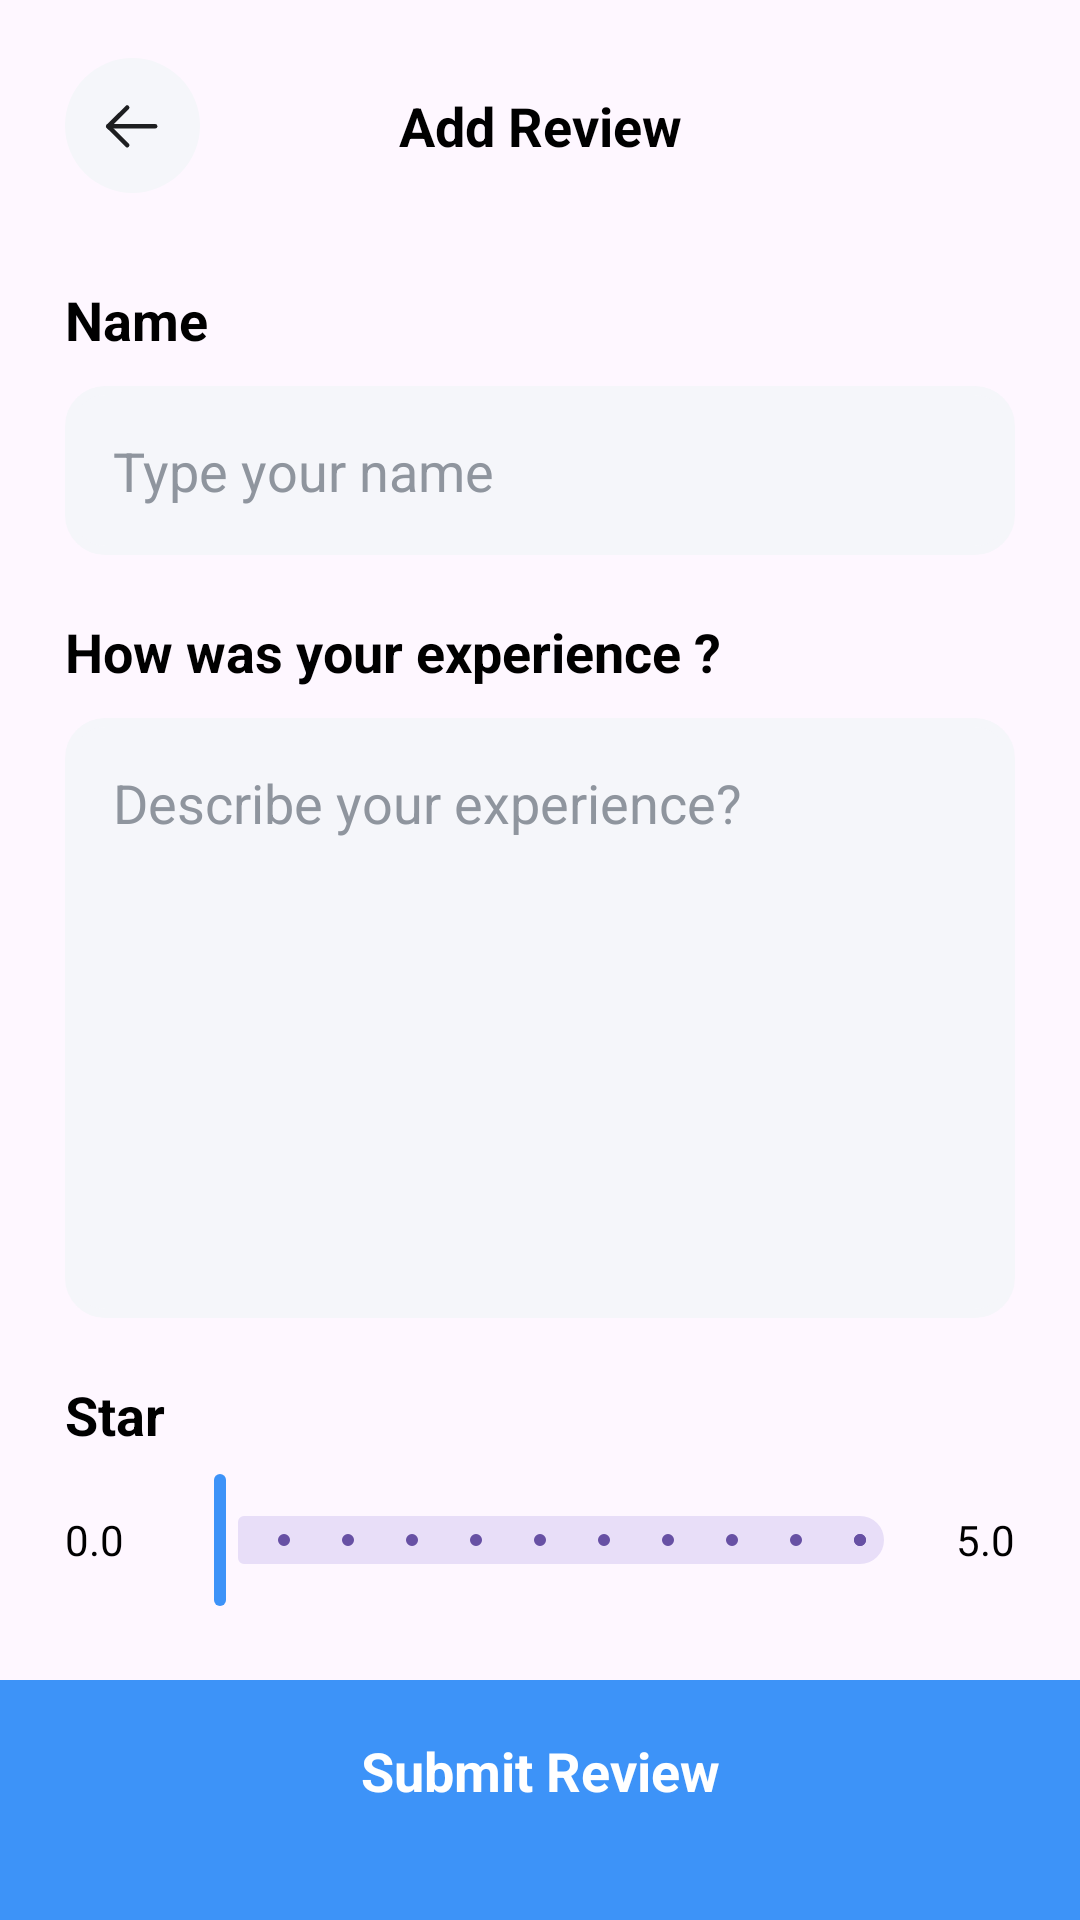

Named icons in this screenshot (1080×1920) and their centers, [x,y]:
back: [132,125]
